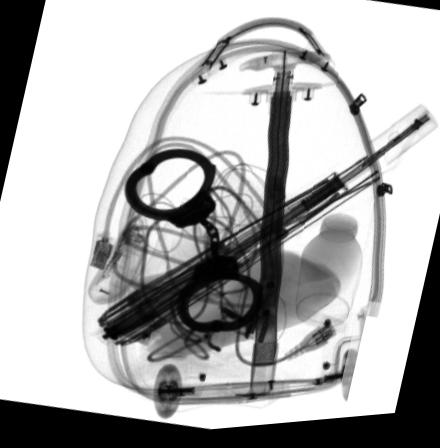HandCuffs: (124, 149, 266, 337)
